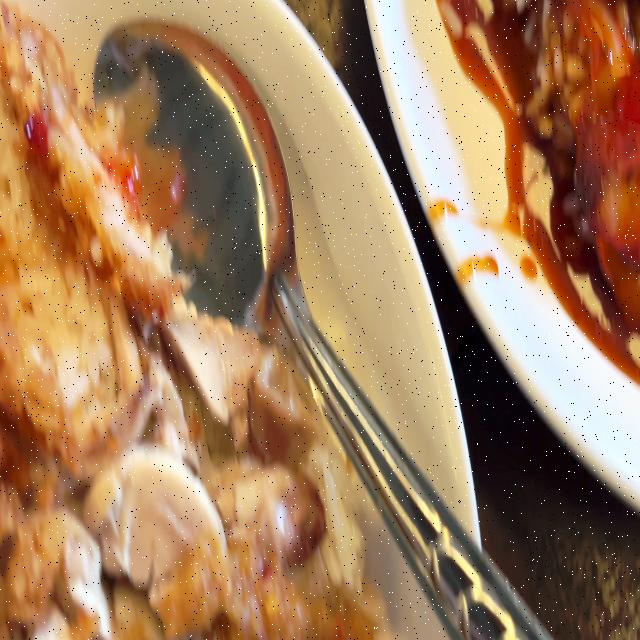boiled_chicken: (97, 309, 337, 640)
chicken_rice: (0, 0, 380, 640)
fried_chicken: (0, 0, 193, 566)
red_pork_and_crispy_pork: (485, 0, 640, 308)
